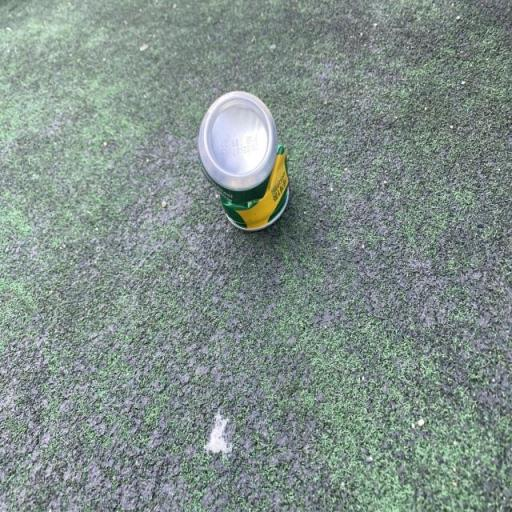metal: (180, 64, 320, 272)
